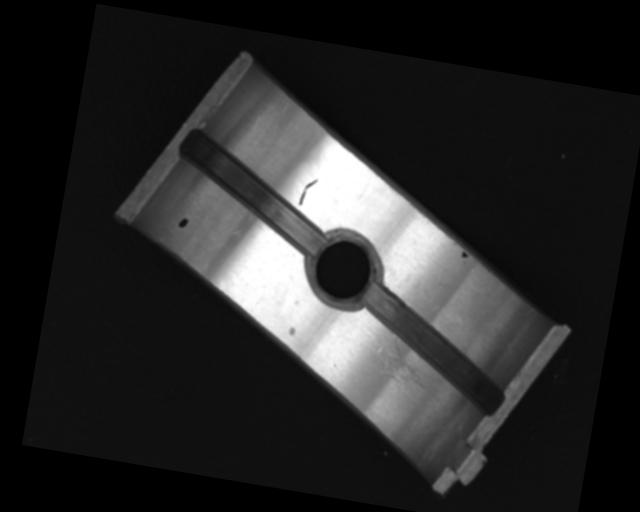blot: (176, 215, 189, 230), (459, 249, 470, 259)
bruise: (287, 323, 297, 337)
gap: (348, 280, 516, 416), (172, 131, 334, 258)
hole: (303, 226, 386, 311)
nick: (297, 176, 317, 208)
scratch: (371, 332, 451, 404)
